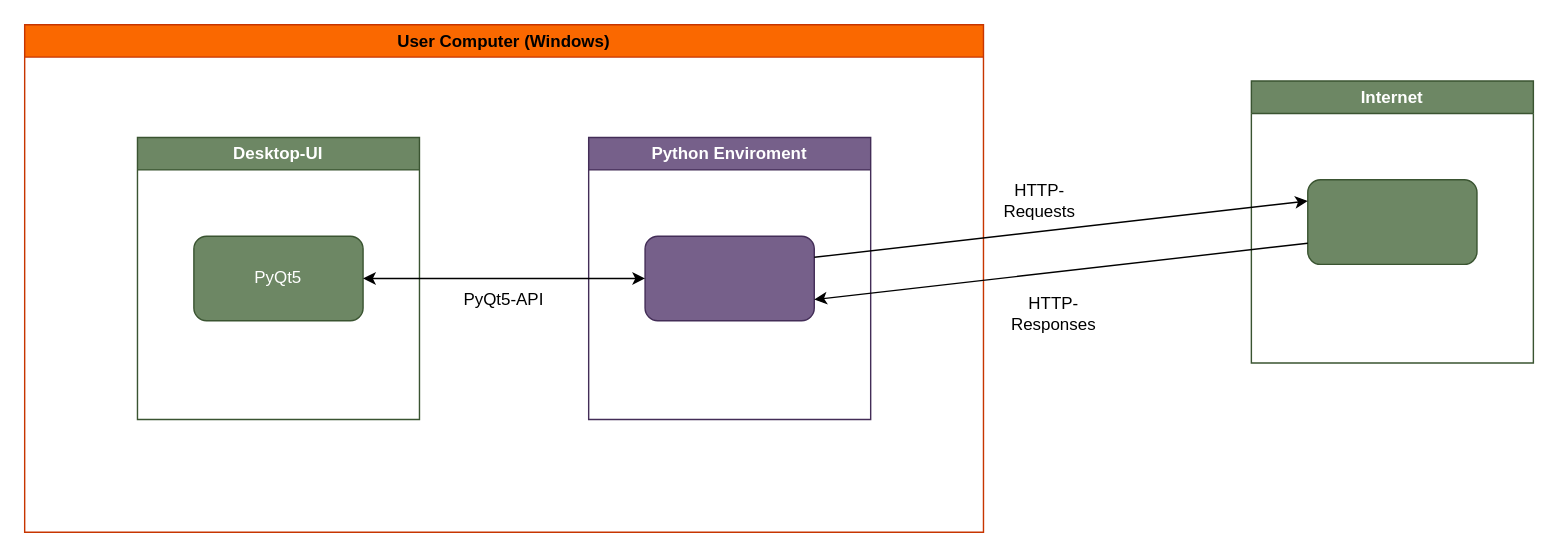
The diagram is 1558 pixels wide and 557 high, and some of its shapes have lost their labels. Here are the shapes that lost their labels. From the top down, the box of each, then its label:
(1306, 178, 1477, 264): Public APIs
(644, 235, 814, 321): Native Python Application
